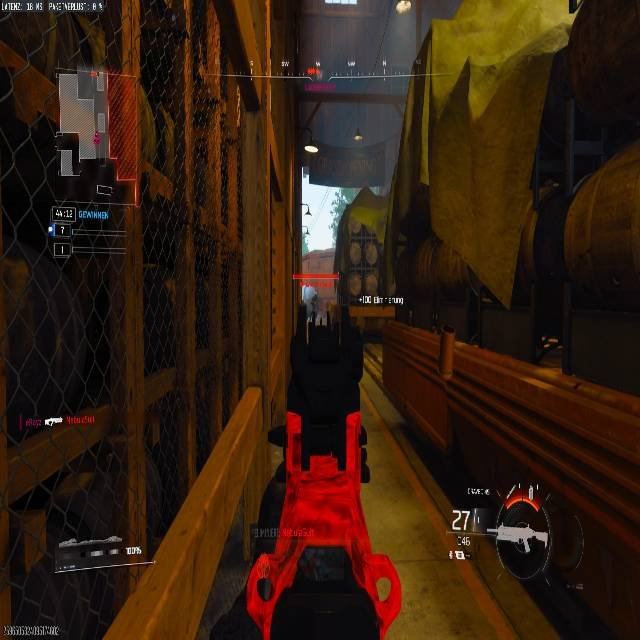player: (329, 190, 347, 227), (303, 285, 320, 324)
